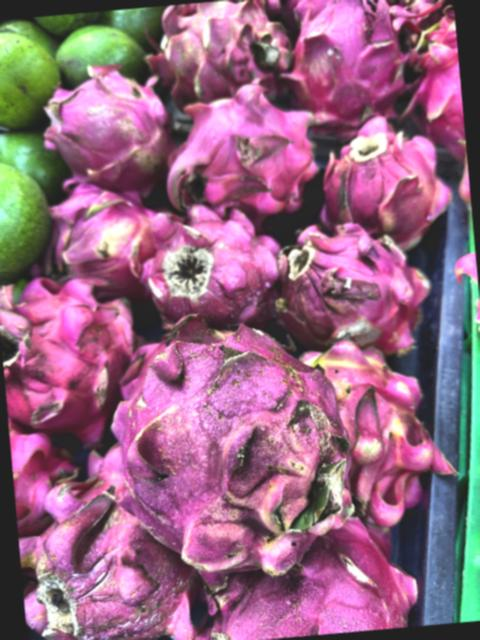buah-naga-belum-matang: (300, 328, 460, 528), (42, 60, 172, 196), (32, 167, 162, 285), (151, 0, 287, 108)
buah-naga-matang: (119, 298, 362, 580), (14, 473, 199, 640), (0, 243, 146, 453), (195, 524, 416, 640), (275, 206, 437, 357), (166, 74, 322, 220), (131, 196, 282, 325), (320, 105, 450, 247), (292, 0, 405, 131), (408, 9, 466, 154)
